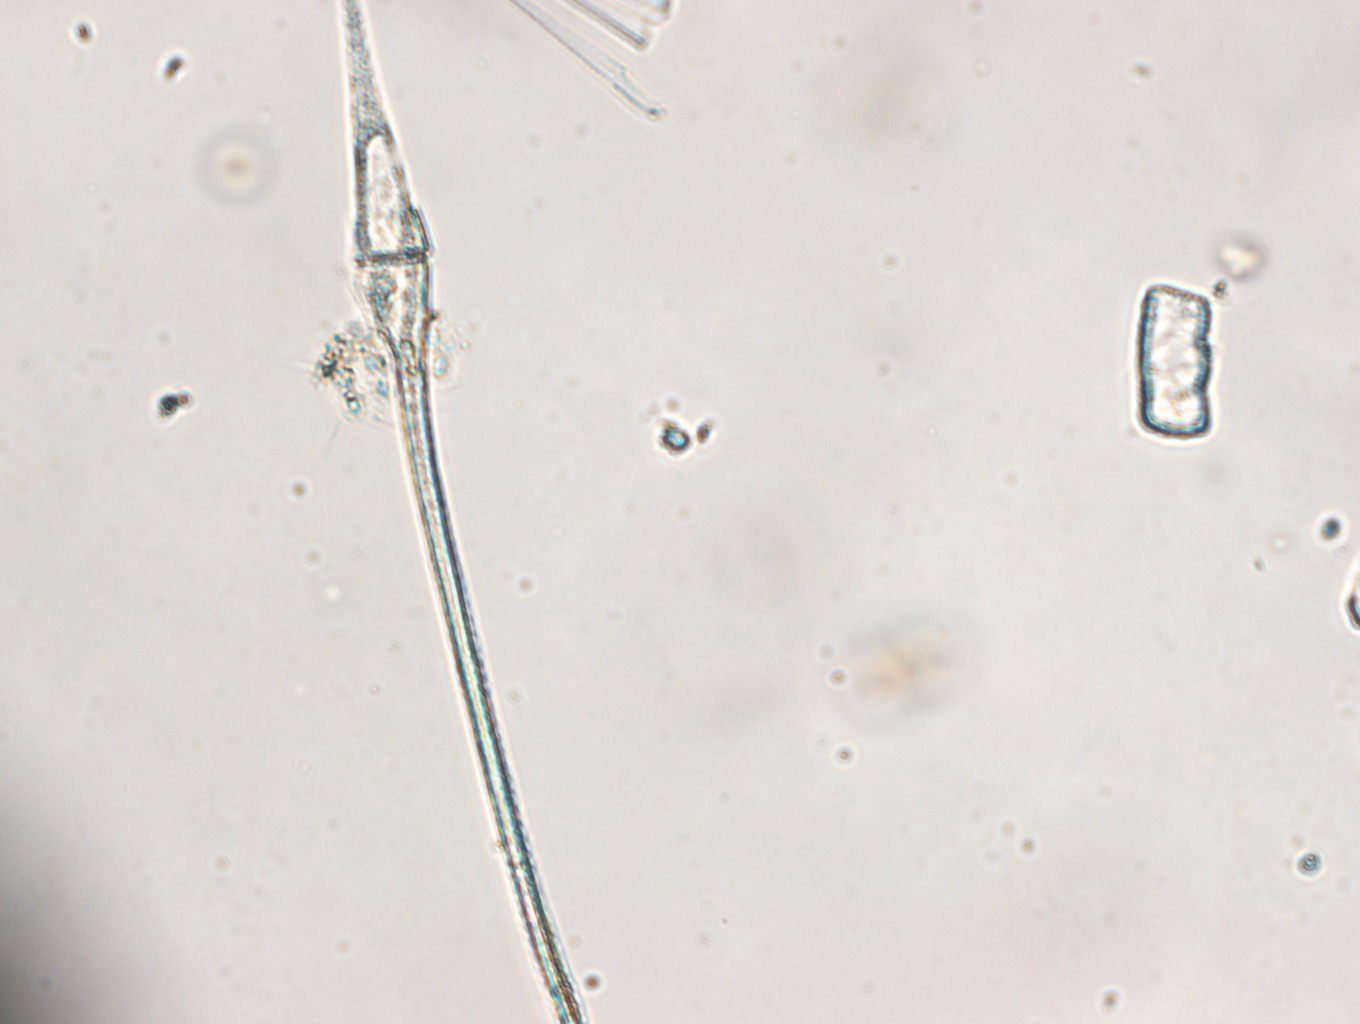ceratium fusus: (323, 2, 598, 1024)
